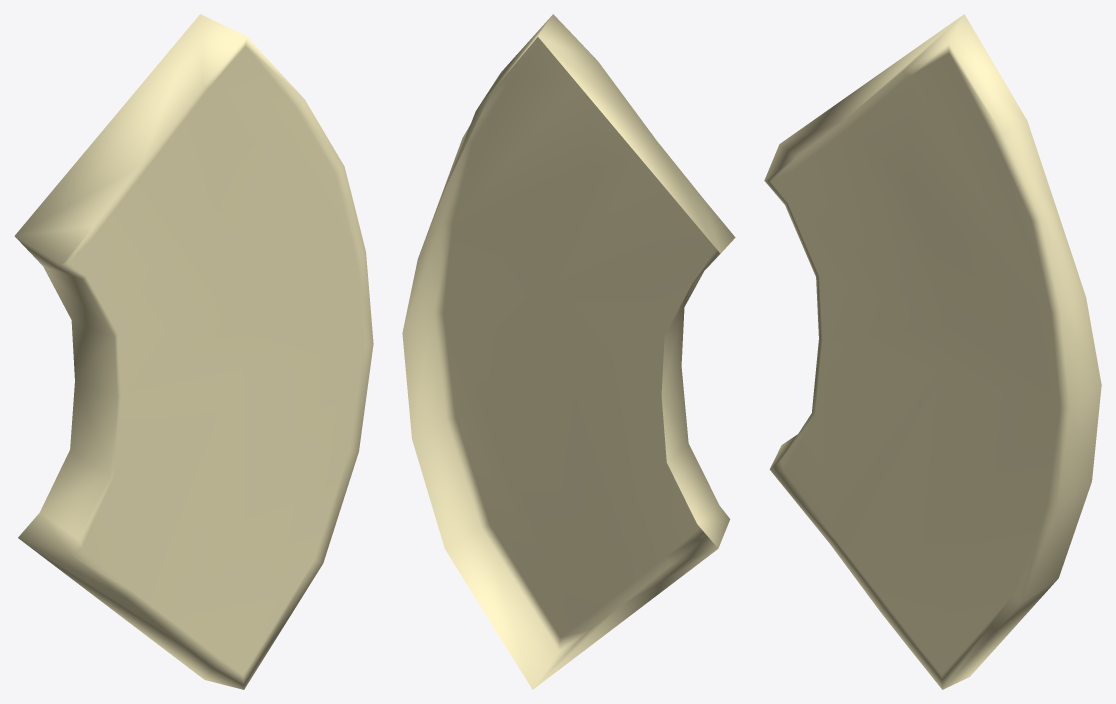
File: ui_radialMenu_4_right.glb
3 views of the same model, side by side, from view 1: azimuth 30°, elevation 25°; view 2: azimuth 150°, elevation 25°; view 3: azimuth 330°, elevation 25° (orthographic). The views are drawn at different scales.
Visible parts, largest first — view 1: main4_right; view 2: main4_right; view 3: main4_right.
Boxes of the visible parts, x1,y1,x2,y2 form: main4_right: (14,14,373,689); main4_right: (402,14,735,689); main4_right: (764,14,1101,689).
Size of the model in its own units: 0.7138 by 1.39 by 0.1337.
